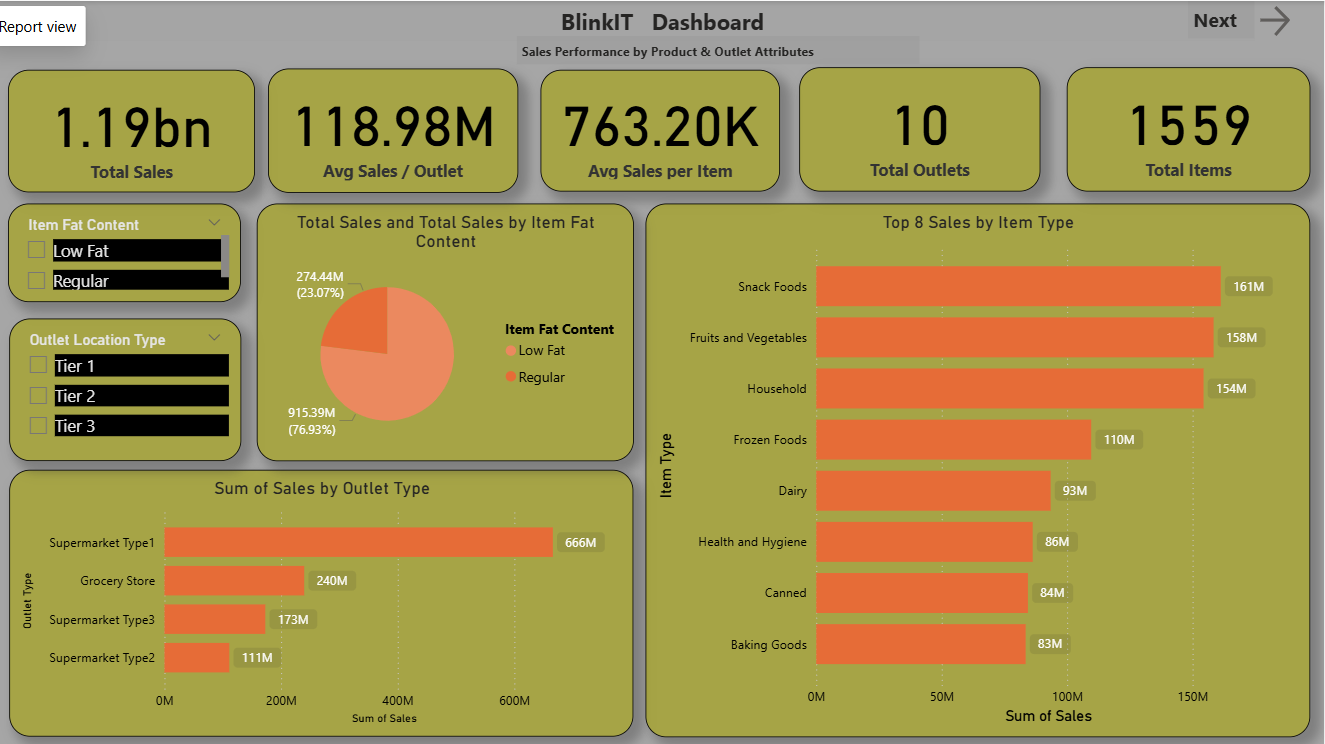

This screenshot's page, from the dashboard's own definition file:
{"tool":"powerbi","page":{"name":"Page 1","canvas":[1280,720],"ordinal":0},"visuals":[{"type":"card","fields":{"Values":["Fact.Total Sales"]},"box":[10,66.2,238.8,118.8],"z":0},{"type":"card","fields":{"Values":["Fact.AVG Sales"]},"box":[523.8,66.2,231.2,117.5],"z":1000},{"type":"card","fields":{"Values":["Fact.Avg Sales per Outlet"]},"box":[773.8,63.8,232.5,120],"z":2000},{"type":"card","fields":{"Values":["Fact.Total Items"]},"box":[1031.2,63.8,235,120],"z":3000},{"type":"clusteredBarChart","fields":{"Category":["Dim_Outlet.Outlet Type"],"Y":["Sum(Fact.Sales)"]},"box":[11.2,452.5,602.5,257.5],"z":4000},{"type":"clusteredBarChart","title":" Top 8 Sales by Item Type","fields":{"Y":["Sum(Fact.Sales)"],"Category":["Dim_Item.Item Type"]},"box":[625,195,641.2,515],"z":5000},{"type":"slicer","fields":{"Values":["Dim_Item.Item Fat Content"]},"box":[10,195,225,95],"z":6000},{"type":"slicer","fields":{"Values":["Dim_Outlet.Outlet Location Type"]},"box":[11.2,306.2,223.8,137.5],"z":7000},{"type":"pieChart","fields":{"Y":["Fact.Total Sales"],"Category":["Dim_Item.Item Fat Content"]},"box":[250,195,363.8,248.8],"z":8000},{"type":"textbox","box":[70,0,1143.1,38.4],"z":9000},{"type":"card","fields":{"Values":["Fact.Avg Sales / Outlet"]},"box":[260,65,241.2,120],"z":10000},{"type":"actionButton","box":[1212.5,0,67.5,38.8],"z":11000},{"type":"textbox","box":[1148.8,0,63.8,36.2],"z":12000},{"type":"textbox","box":[501.2,33.8,388.8,27.5],"z":13000}]}

Visuals, with their boxes on the page's 1280x720 design canvas (x1, y1, x2, y2). These are canvas units, not pixel positions in the 1325x744 screenshot, which may show the page scaled, cropped or inside an application window:
card - Fact.Total Sales: Rect(10, 66, 249, 185)
card - Fact.AVG Sales: Rect(524, 66, 755, 184)
card - Fact.Avg Sales per Outlet: Rect(774, 64, 1006, 184)
card - Fact.Total Items: Rect(1031, 64, 1266, 184)
clusteredBarChart - Dim_Outlet.Outlet Type x Sum(Fact.Sales): Rect(11, 452, 614, 710)
" Top 8 Sales by Item Type" clusteredBarChart: Rect(625, 195, 1266, 710)
slicer - Dim_Item.Item Fat Content: Rect(10, 195, 235, 290)
slicer - Dim_Outlet.Outlet Location Type: Rect(11, 306, 235, 444)
pieChart - Fact.Total Sales x Dim_Item.Item Fat Content: Rect(250, 195, 614, 444)
textbox: Rect(70, 0, 1213, 38)
card - Fact.Avg Sales / Outlet: Rect(260, 65, 501, 185)
actionButton: Rect(1212, 0, 1280, 39)
textbox: Rect(1149, 0, 1213, 36)
textbox: Rect(501, 34, 890, 61)
